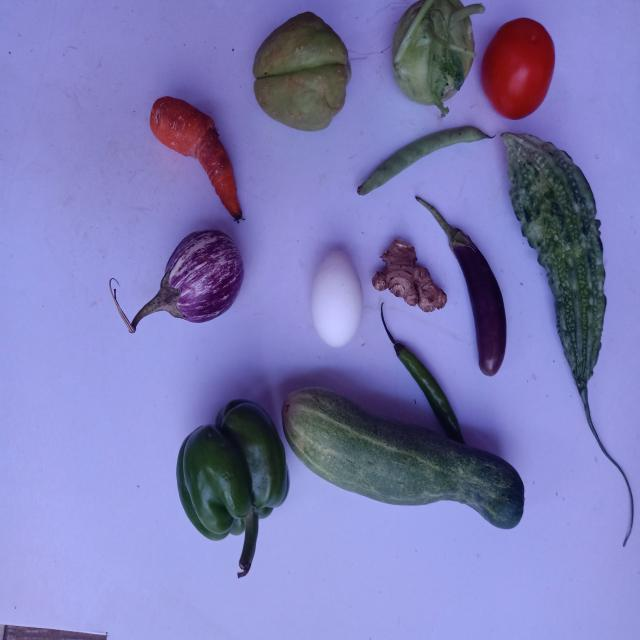Beans: (357, 125, 493, 194)
Bitter Gourd: (503, 132, 635, 547)
Brinjal: (416, 196, 507, 376)
Capsicum: (177, 400, 289, 578)
Carrot: (149, 95, 242, 220)
Chayote: (246, 13, 360, 142)
Cucumber: (282, 387, 525, 529)
Egg: (312, 250, 363, 347)
Eggplant: (110, 230, 244, 332)
Ginger: (372, 239, 447, 311)
Green Chilly: (381, 304, 465, 444)
Tomato: (482, 17, 556, 118)
Turnip: (392, 0, 485, 114)
